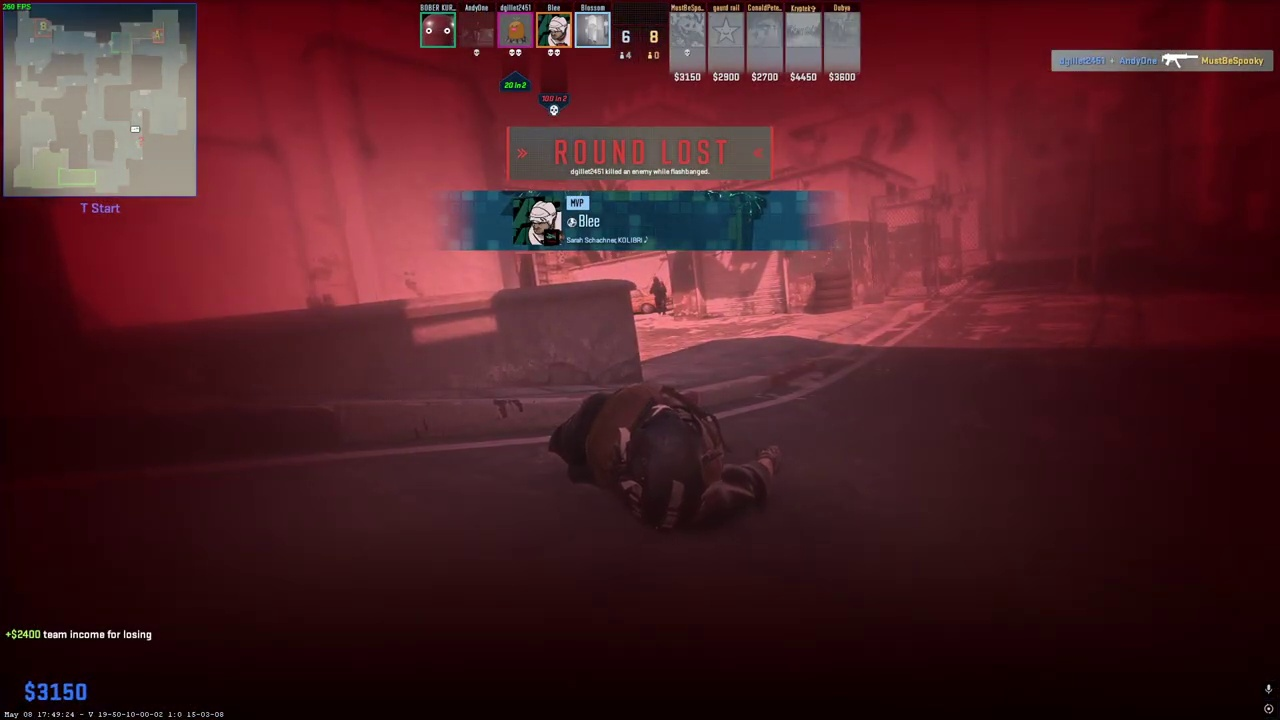CT: (650, 276, 670, 315)
